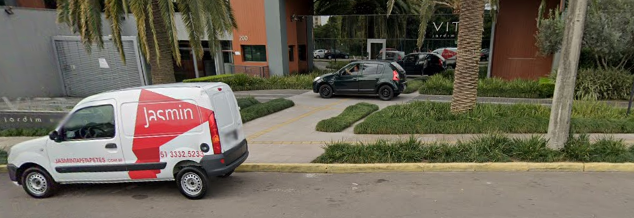vag29: (256, 89, 634, 210)
